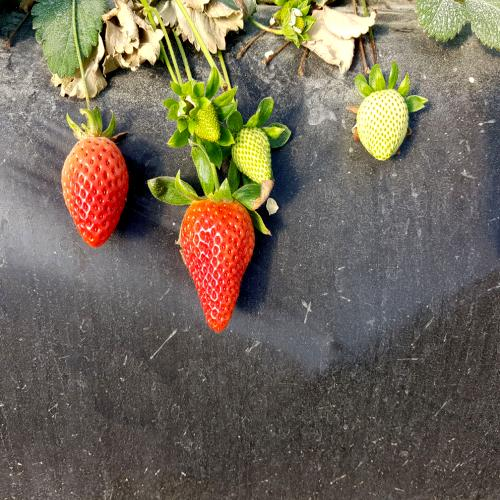ripe: (176, 190, 258, 339), (51, 128, 134, 256)
